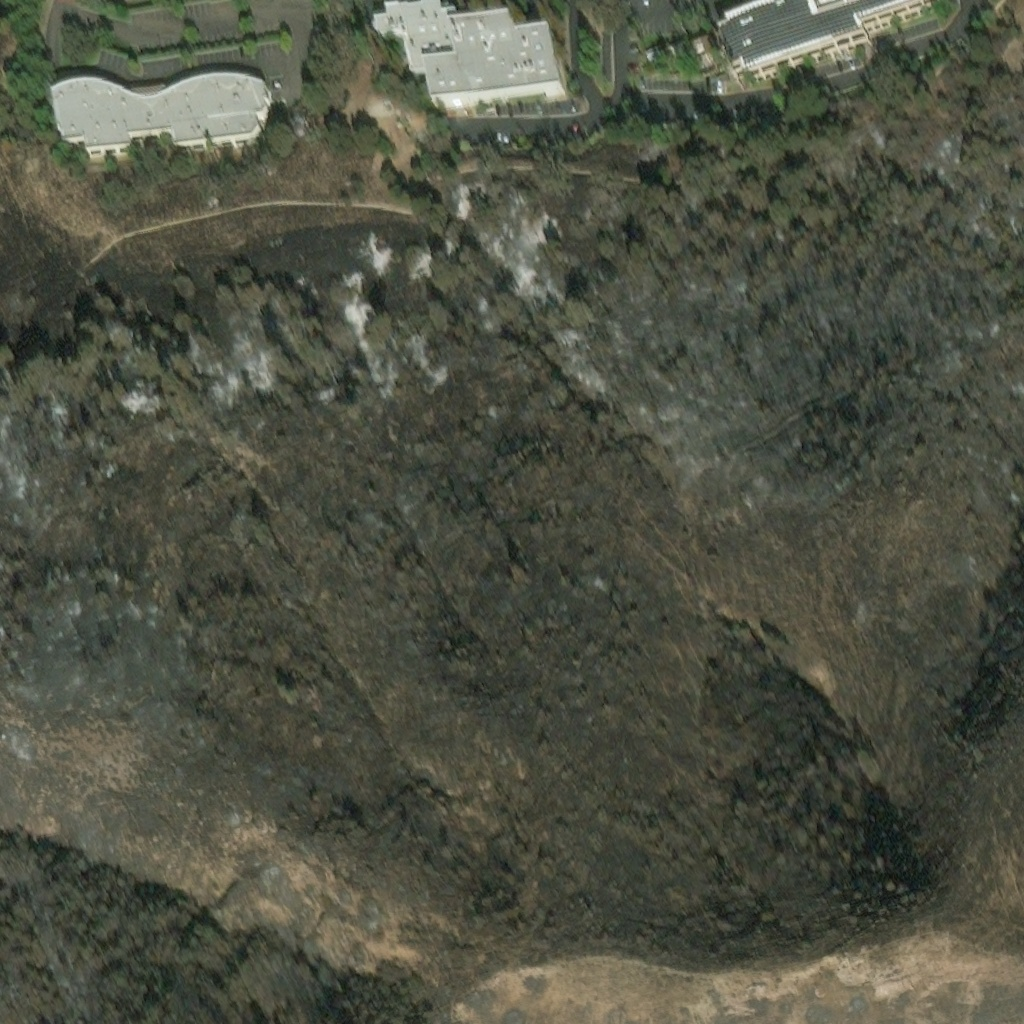0 no-damage: (372, 0, 559, 96), (50, 69, 266, 146), (714, 0, 919, 67)
